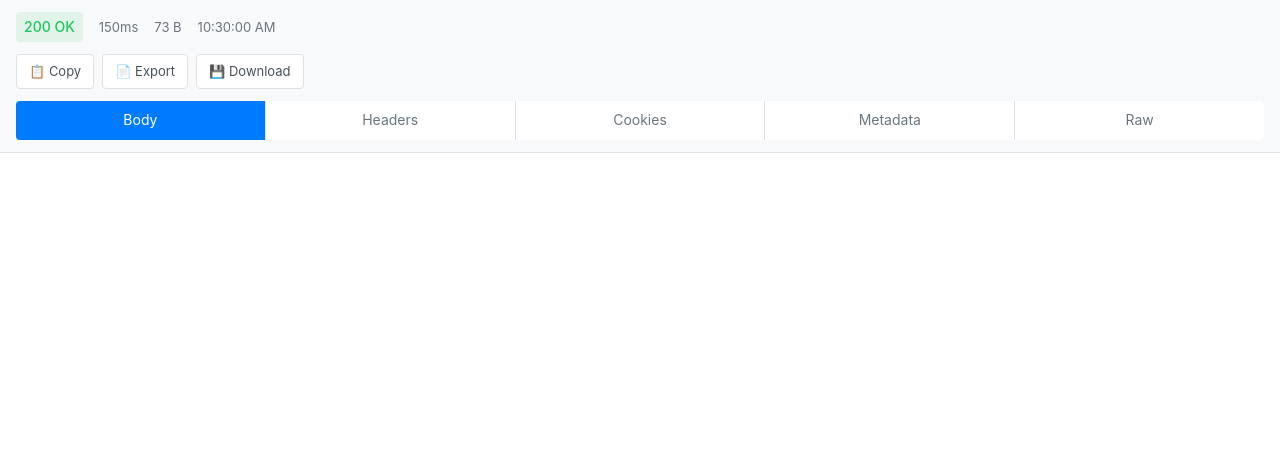
Test case: ResponseView › should handle binary response data in raw display
The width and height of the screenshot is (1280, 454).
Click the button "Raw". click: [1140, 120]
box: [1015, 101, 1264, 140]
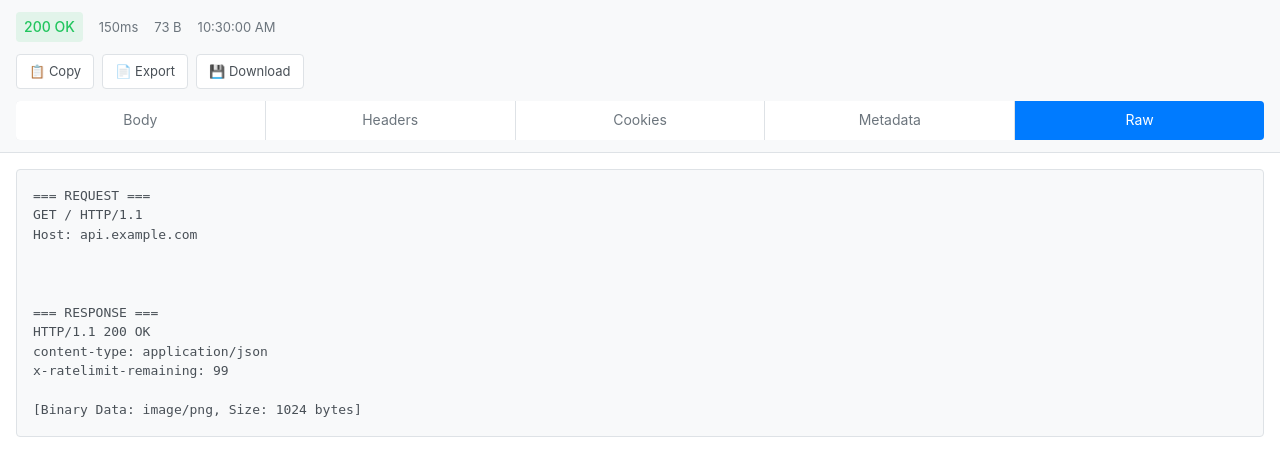
Expected: the text "[Binary Data: image/png, Size: 1024 bytes]" is shown, [33, 188, 362, 417]
